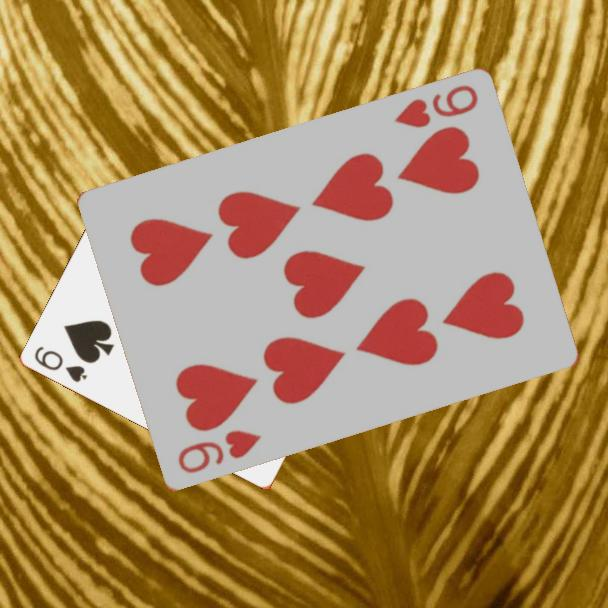h09: (390, 82, 481, 132), (174, 427, 264, 477)
s06: (31, 342, 91, 385)
